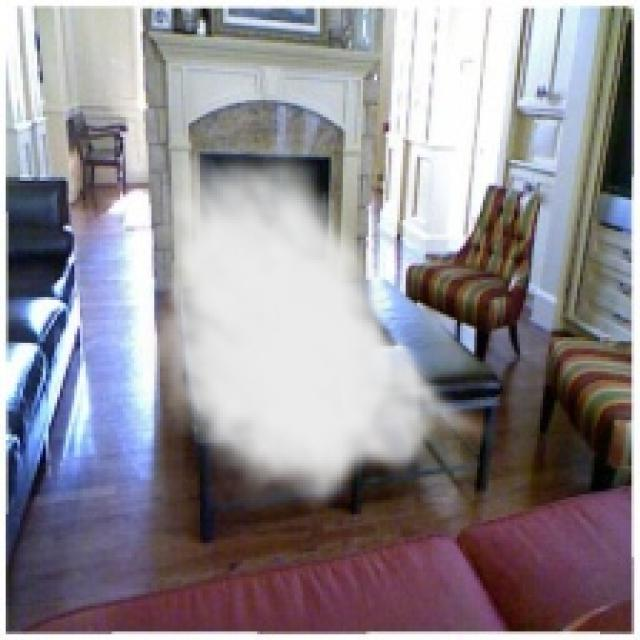Smoke: (140, 128, 500, 520)
